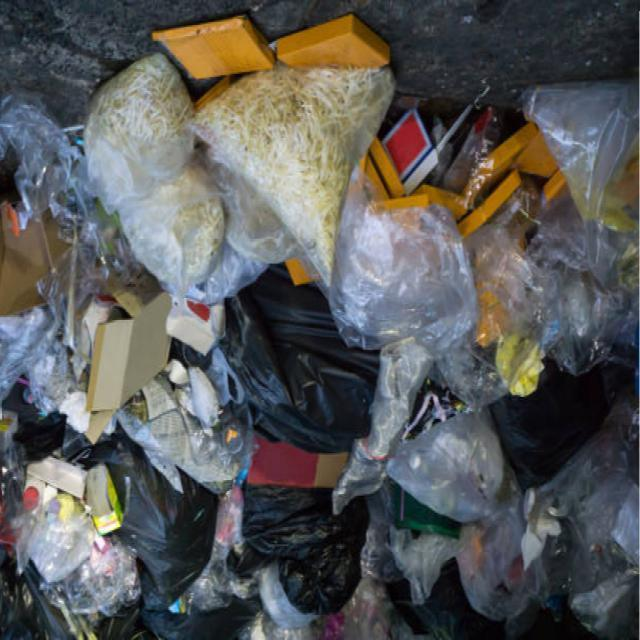Trashbag: (207, 270, 387, 455), (486, 335, 618, 486), (230, 473, 372, 612), (122, 471, 216, 590), (395, 557, 500, 640), (143, 570, 239, 640)
